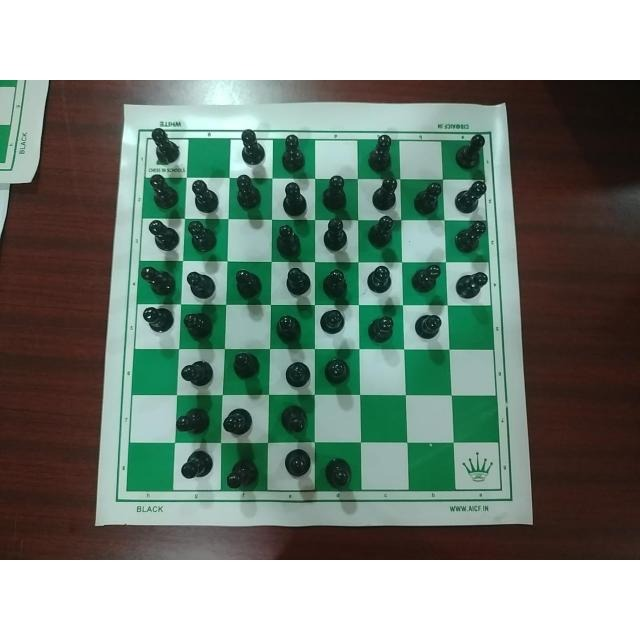black-pawn: (228, 125, 270, 169), (145, 122, 185, 166), (280, 129, 313, 176), (455, 264, 491, 304), (235, 172, 266, 218), (454, 129, 486, 173), (143, 172, 181, 208), (270, 309, 308, 345), (324, 453, 360, 491), (138, 262, 178, 296), (368, 131, 400, 173), (191, 175, 221, 217), (186, 218, 220, 255), (180, 356, 216, 390), (412, 177, 441, 219), (143, 220, 181, 252), (321, 216, 353, 254), (453, 180, 486, 216), (322, 265, 354, 302), (280, 401, 313, 436), (186, 264, 218, 300), (233, 267, 265, 303), (282, 263, 314, 299), (140, 303, 176, 335), (281, 178, 309, 219), (171, 409, 214, 435), (324, 173, 351, 214), (409, 263, 441, 297), (318, 308, 350, 342), (364, 216, 396, 249), (455, 223, 488, 255), (273, 223, 304, 257), (183, 307, 214, 341), (372, 175, 400, 212), (182, 449, 214, 481), (227, 462, 260, 493), (322, 353, 353, 385), (231, 350, 261, 383), (368, 311, 397, 345), (285, 448, 315, 480), (414, 309, 442, 343), (223, 408, 254, 438), (365, 263, 392, 295), (285, 359, 311, 388)
